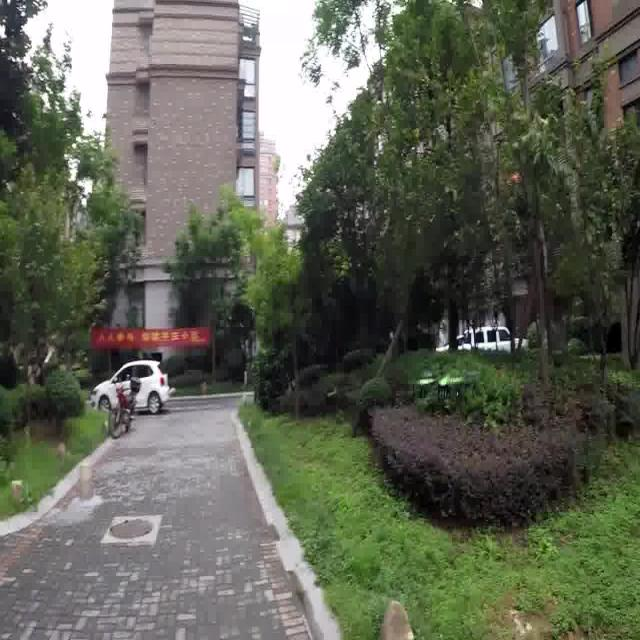drones: (414, 364, 482, 404)
